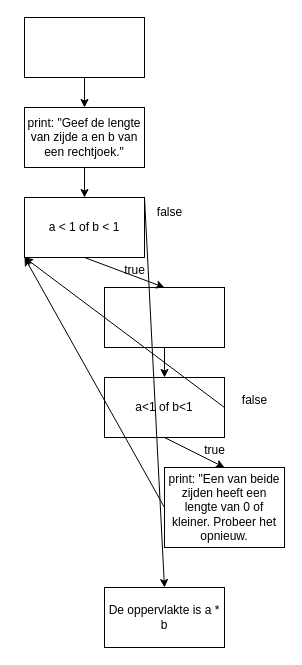
Image size: 302x665. Some labels were removed from this diagram. The box of each missing label's shape, as (x1, y1, x2, y2) in pixels:
Declareer a als -1 en b als -1: (24, 16, 144, 78)
scan input "a, b": (104, 286, 224, 348)
